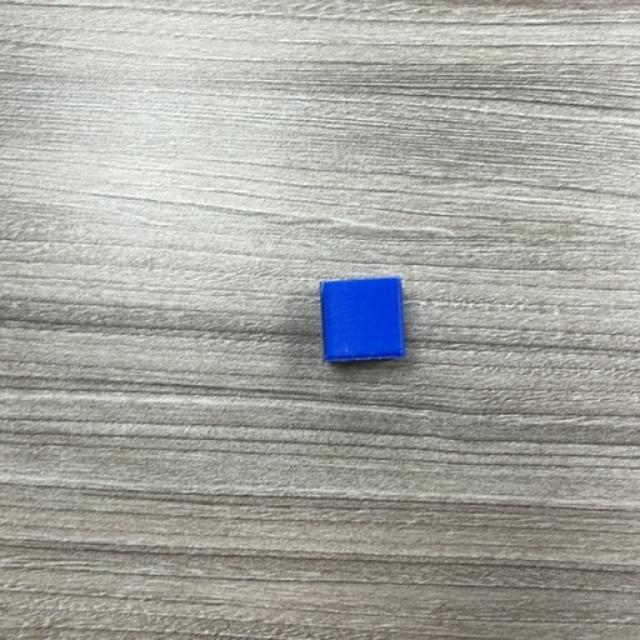Azul: (320, 278, 408, 366)
